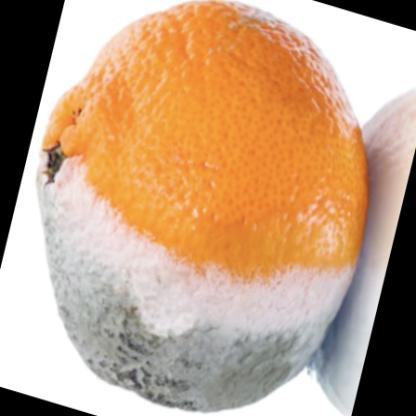rotten: (35, 1, 370, 411)
